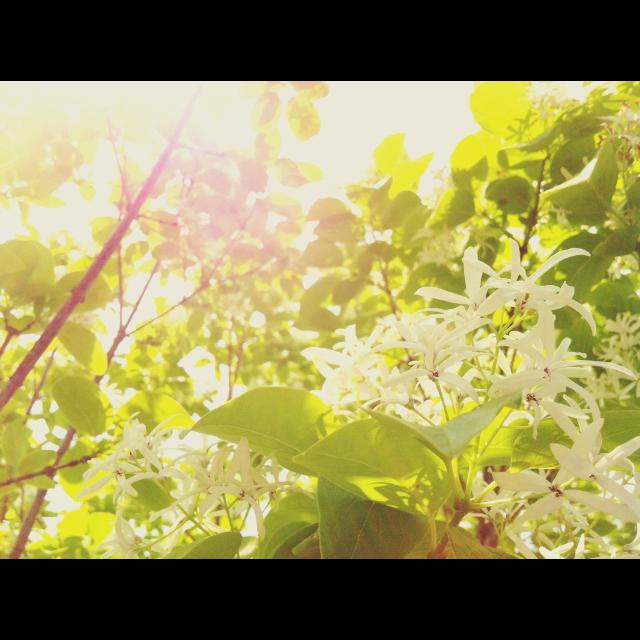Flower: (297, 240, 639, 558), (78, 415, 290, 557), (138, 150, 306, 270), (526, 380, 590, 446)
